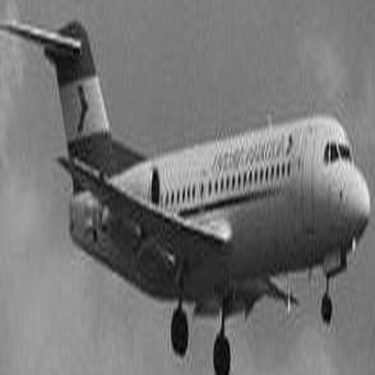airplane: (6, 3, 371, 372)
